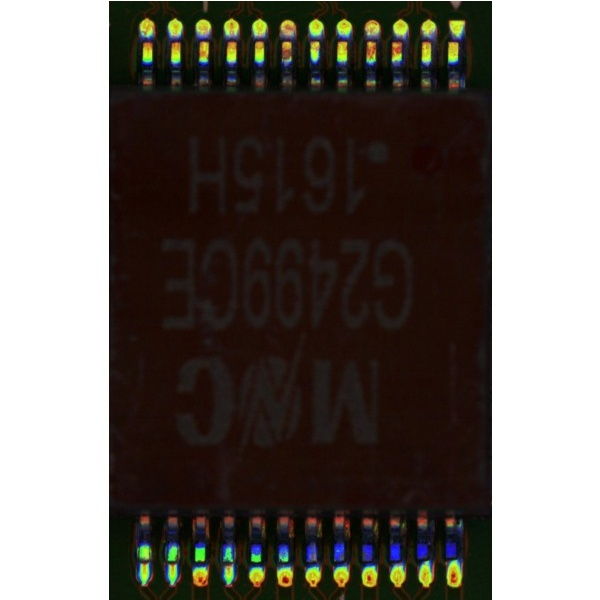Bad_podu: (169, 554, 177, 576), (225, 551, 232, 575), (141, 549, 148, 572)
